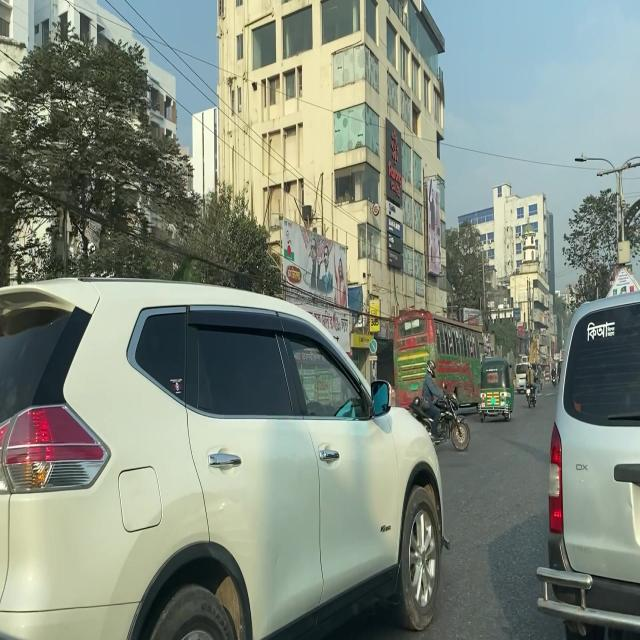car: (0, 275, 453, 640), (534, 284, 640, 640)
motorbike: (404, 381, 471, 454), (524, 375, 540, 410), (550, 366, 558, 389)
